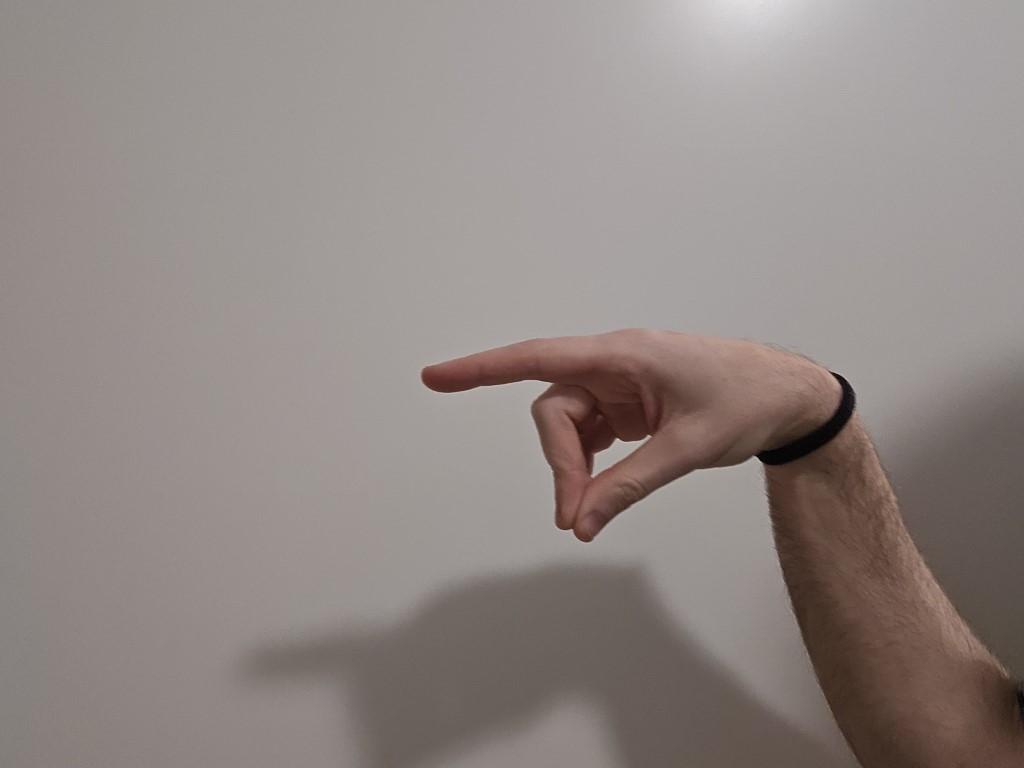p: (371, 279, 790, 569)
